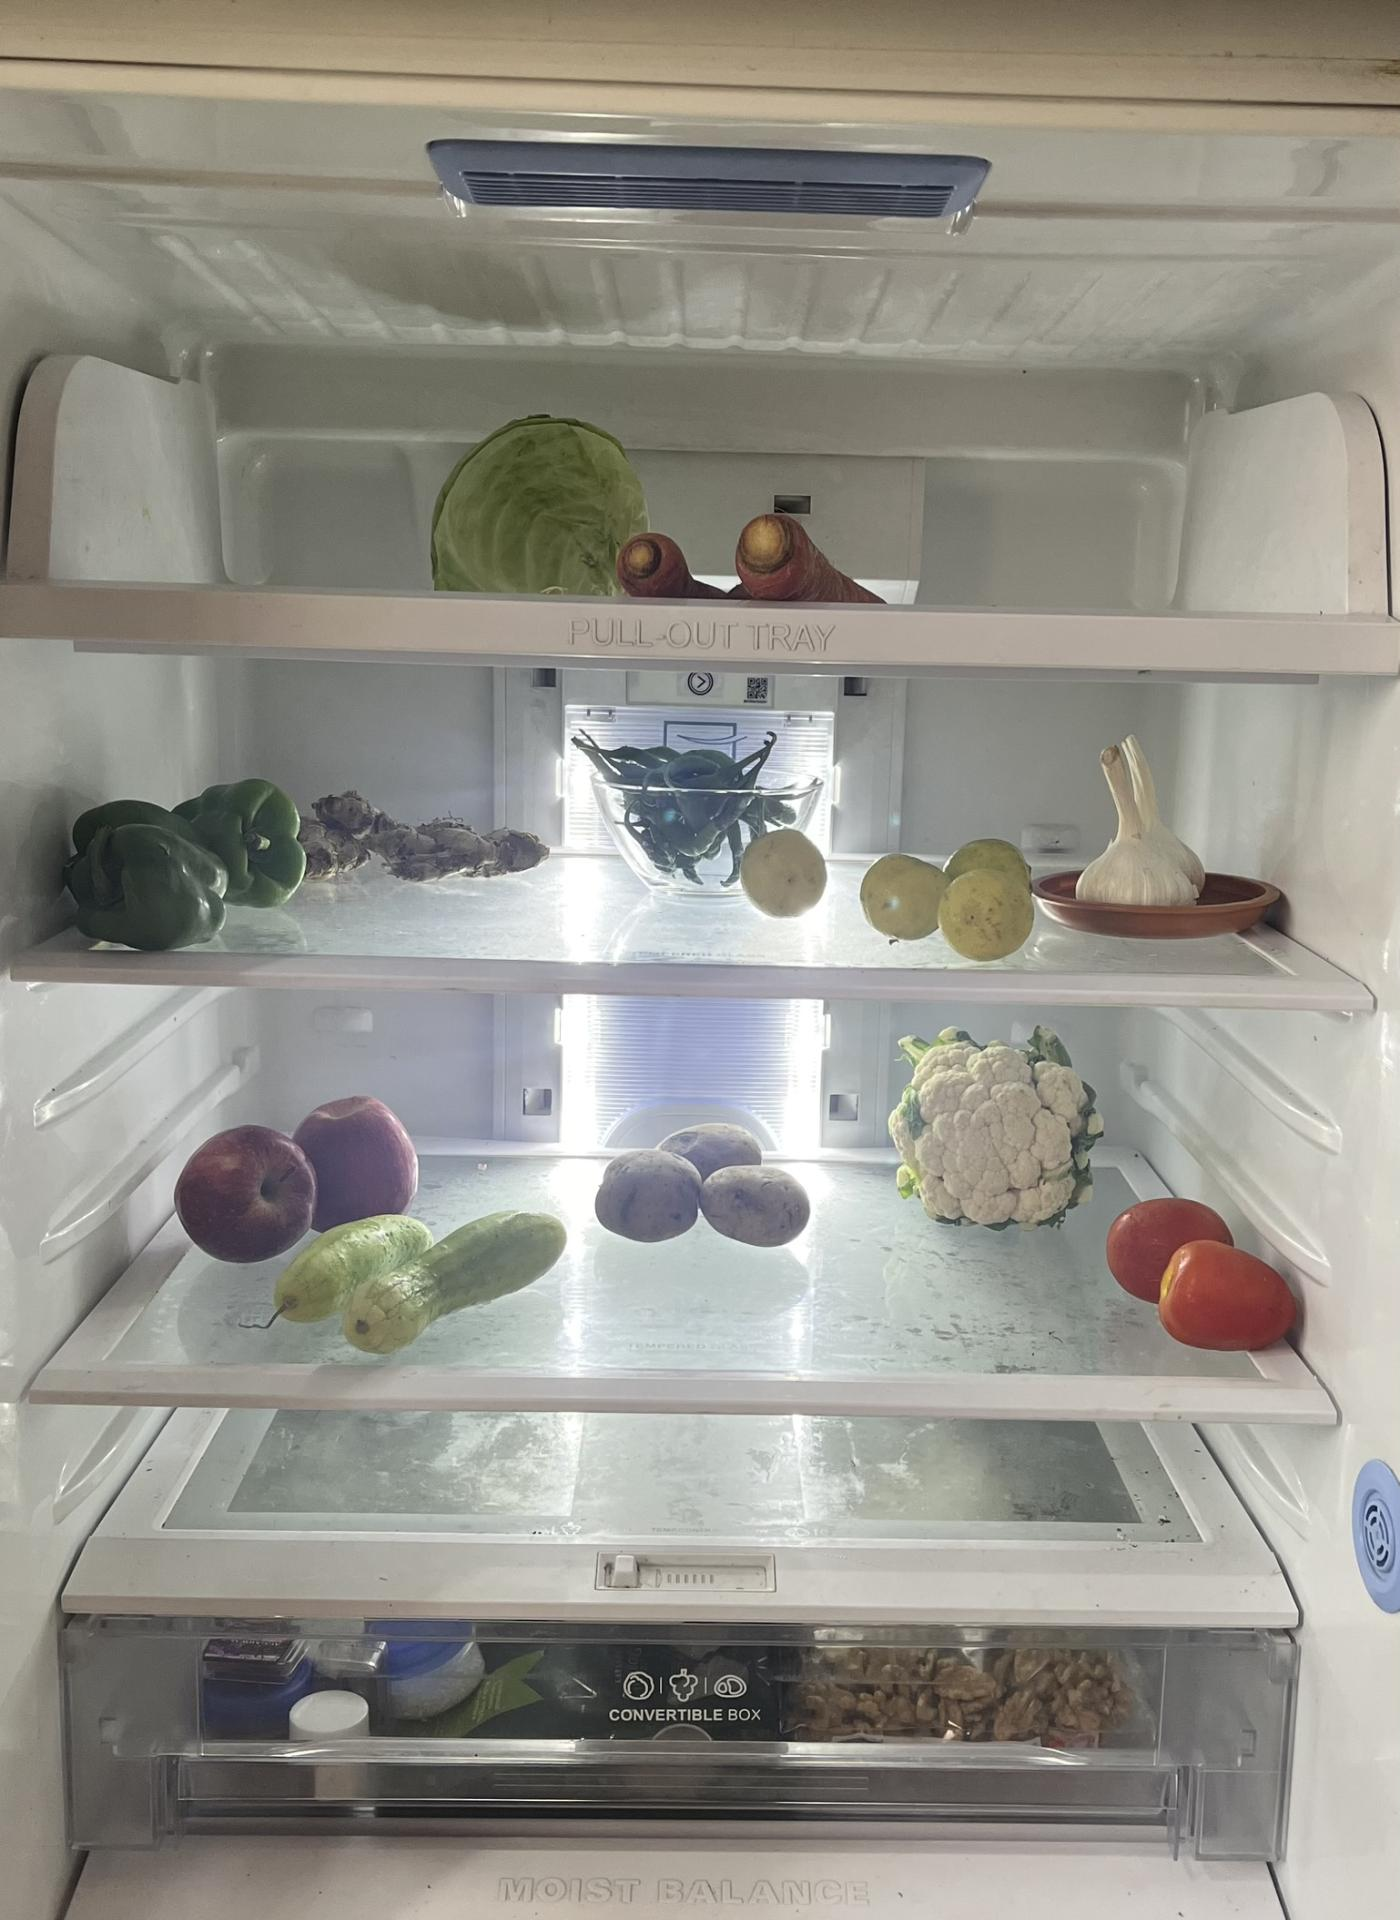apple: (173, 1097, 422, 1266)
cabbage: (434, 410, 658, 590)
capsicum: (61, 766, 313, 960)
carrots: (613, 522, 898, 616)
cauliflower: (880, 1023, 1108, 1240)
chillies: (567, 719, 792, 875)
cucumber: (264, 1200, 573, 1354)
garlic: (1068, 732, 1208, 912)
ginger: (292, 787, 553, 890)
lemon: (856, 835, 1041, 966), (741, 832, 829, 915)
potato: (583, 1118, 822, 1260)
tomato: (1102, 1194, 1308, 1360)
